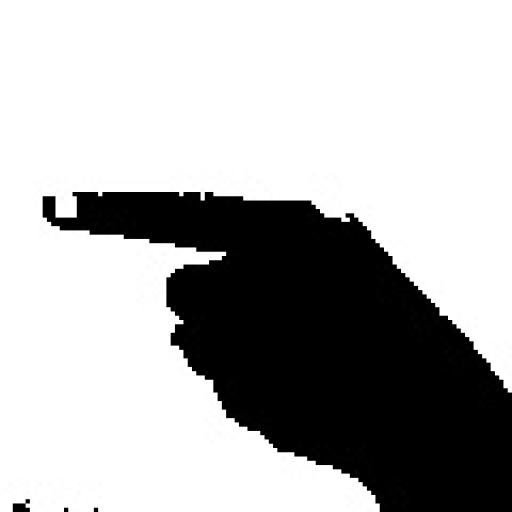index_left: (40, 188, 512, 412)
